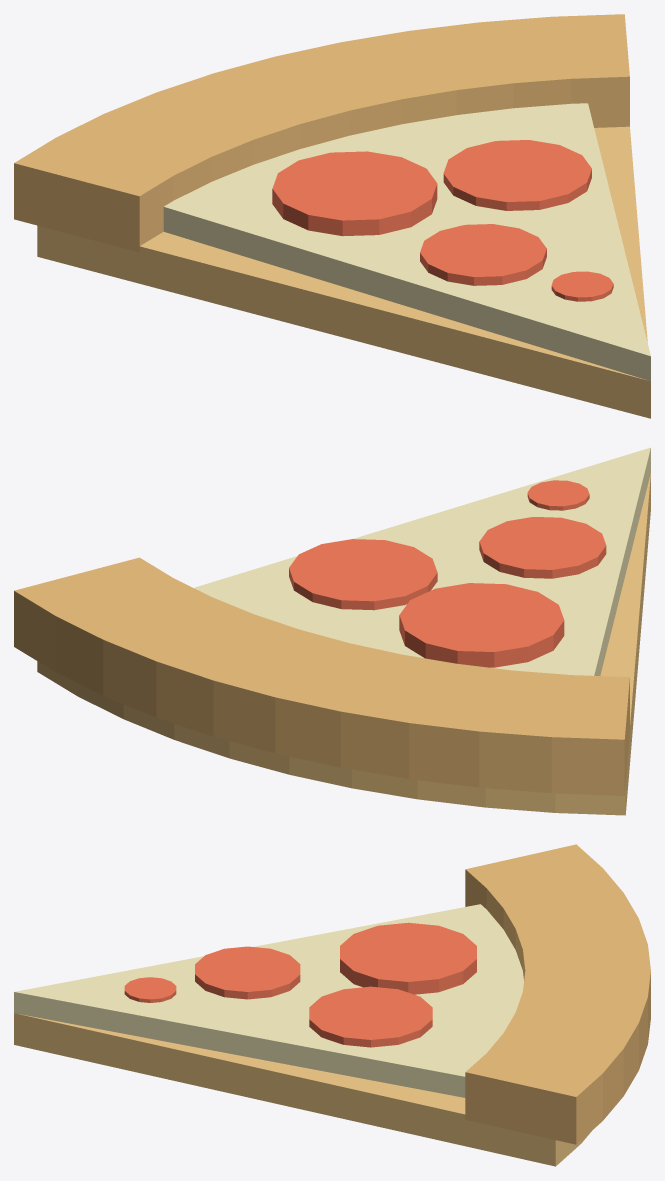
File: Pizza02.fbx
The picture shows the model from 3 angles, top to bottom: view 1: azimuth 30°, elevation 25°; view 2: azimuth 150°, elevation 25°; view 3: azimuth 270°, elevation 25°; orthographic projection. The views are drawn at different scales.
Parts seen in each view (by area): view 1: SlicePizza; view 2: SlicePizza; view 3: SlicePizza.
Boxes of the visible parts, x1,y1,x2,y2 form: SlicePizza: [14, 14, 650, 418]; SlicePizza: [14, 447, 650, 815]; SlicePizza: [14, 844, 650, 1166].
Bounding box in the file's own units: 43.48 × 5.95 × 46.3.
